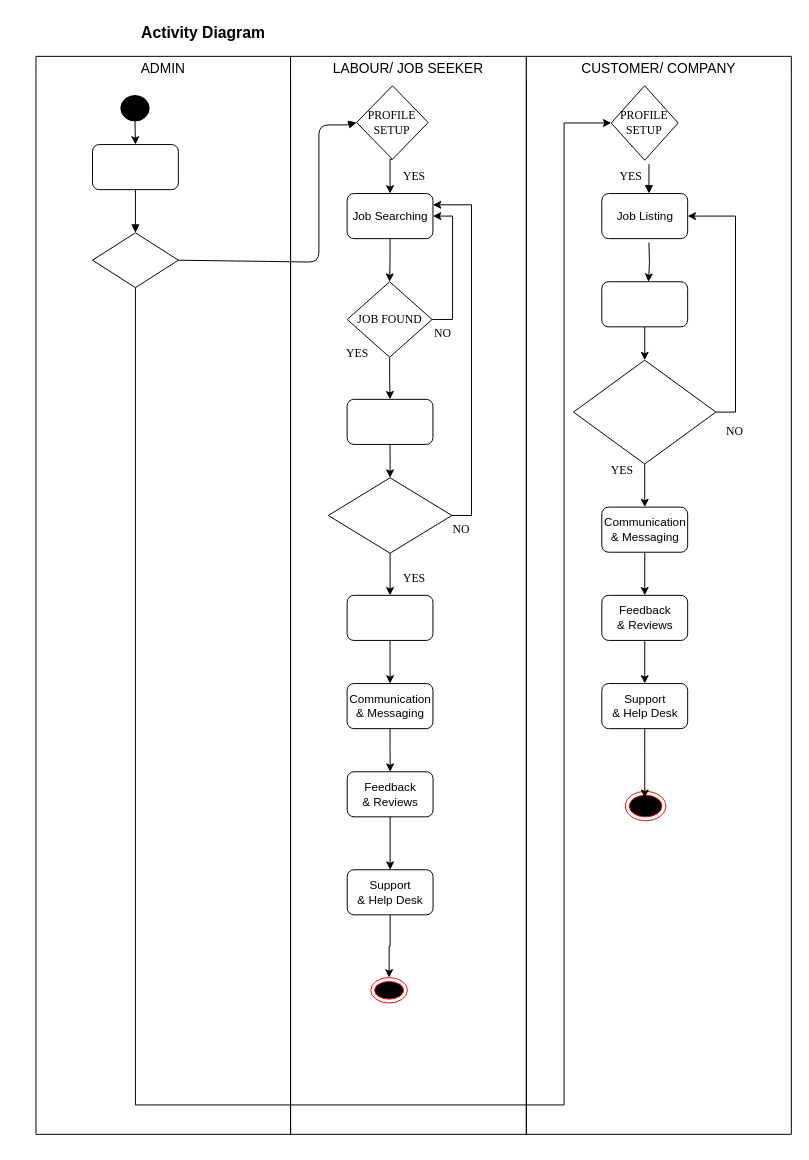
This 809x1160 diagram has some shape labels left out. The shapes that lost their labels are listed below. From the top down, each one's centre as x and y in pixels, then its label:
the point at 135,167: Registration/ Login
the point at 135,260: User Role
the point at 644,304: Candidate Profile
the point at 389,421: View Job Details
the point at 644,411: SUITABLE CANDIDATE FOUND
the point at 389,515: REQUIREMENT MET
the point at 389,617: Apply for Job
